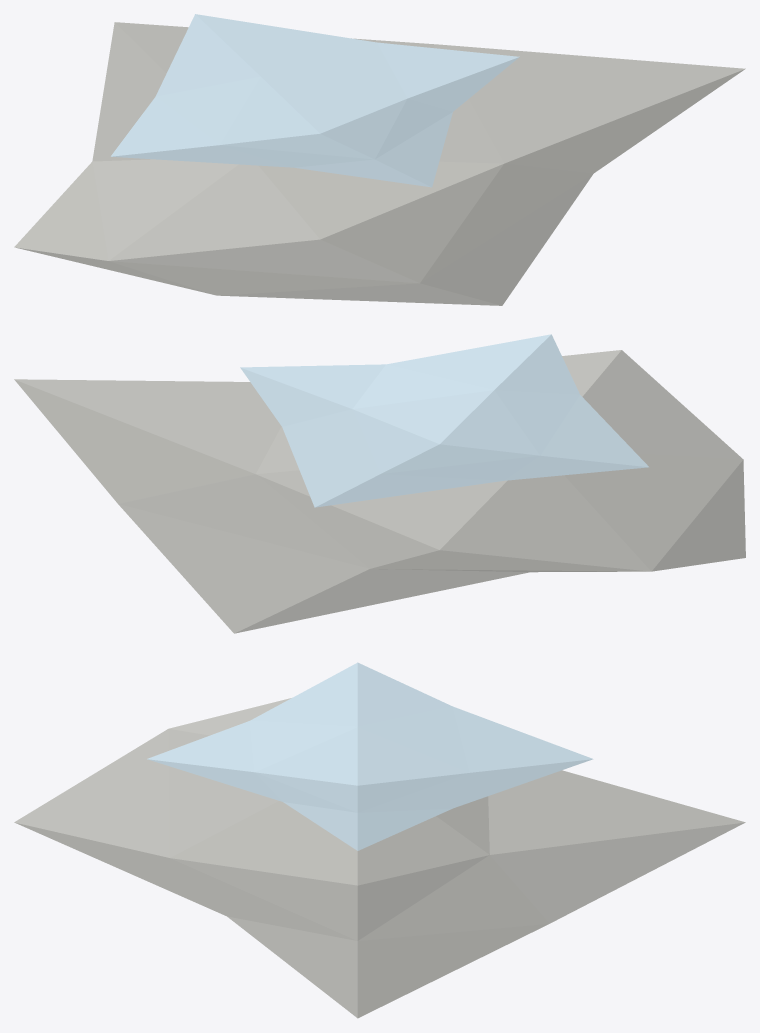
File: puddle_stone_v33.glb
3 views of the same model, one above another, from view 1: azimuth 30°, elevation 25°; view 2: azimuth 150°, elevation 25°; view 3: azimuth 270°, elevation 25° (orthographic). The views are drawn at different scales.
Visible parts, largest first — view 1: lod0; view 2: lod0; view 3: lod0.
Part boxes in pixels (x1,y1,x2,y2): lod0: [14, 14, 745, 305]; lod0: [14, 334, 745, 633]; lod0: [14, 662, 745, 1018].
Size of what is drawn, in the model's own units: 0.7995 by 0.1689 by 0.7336.
